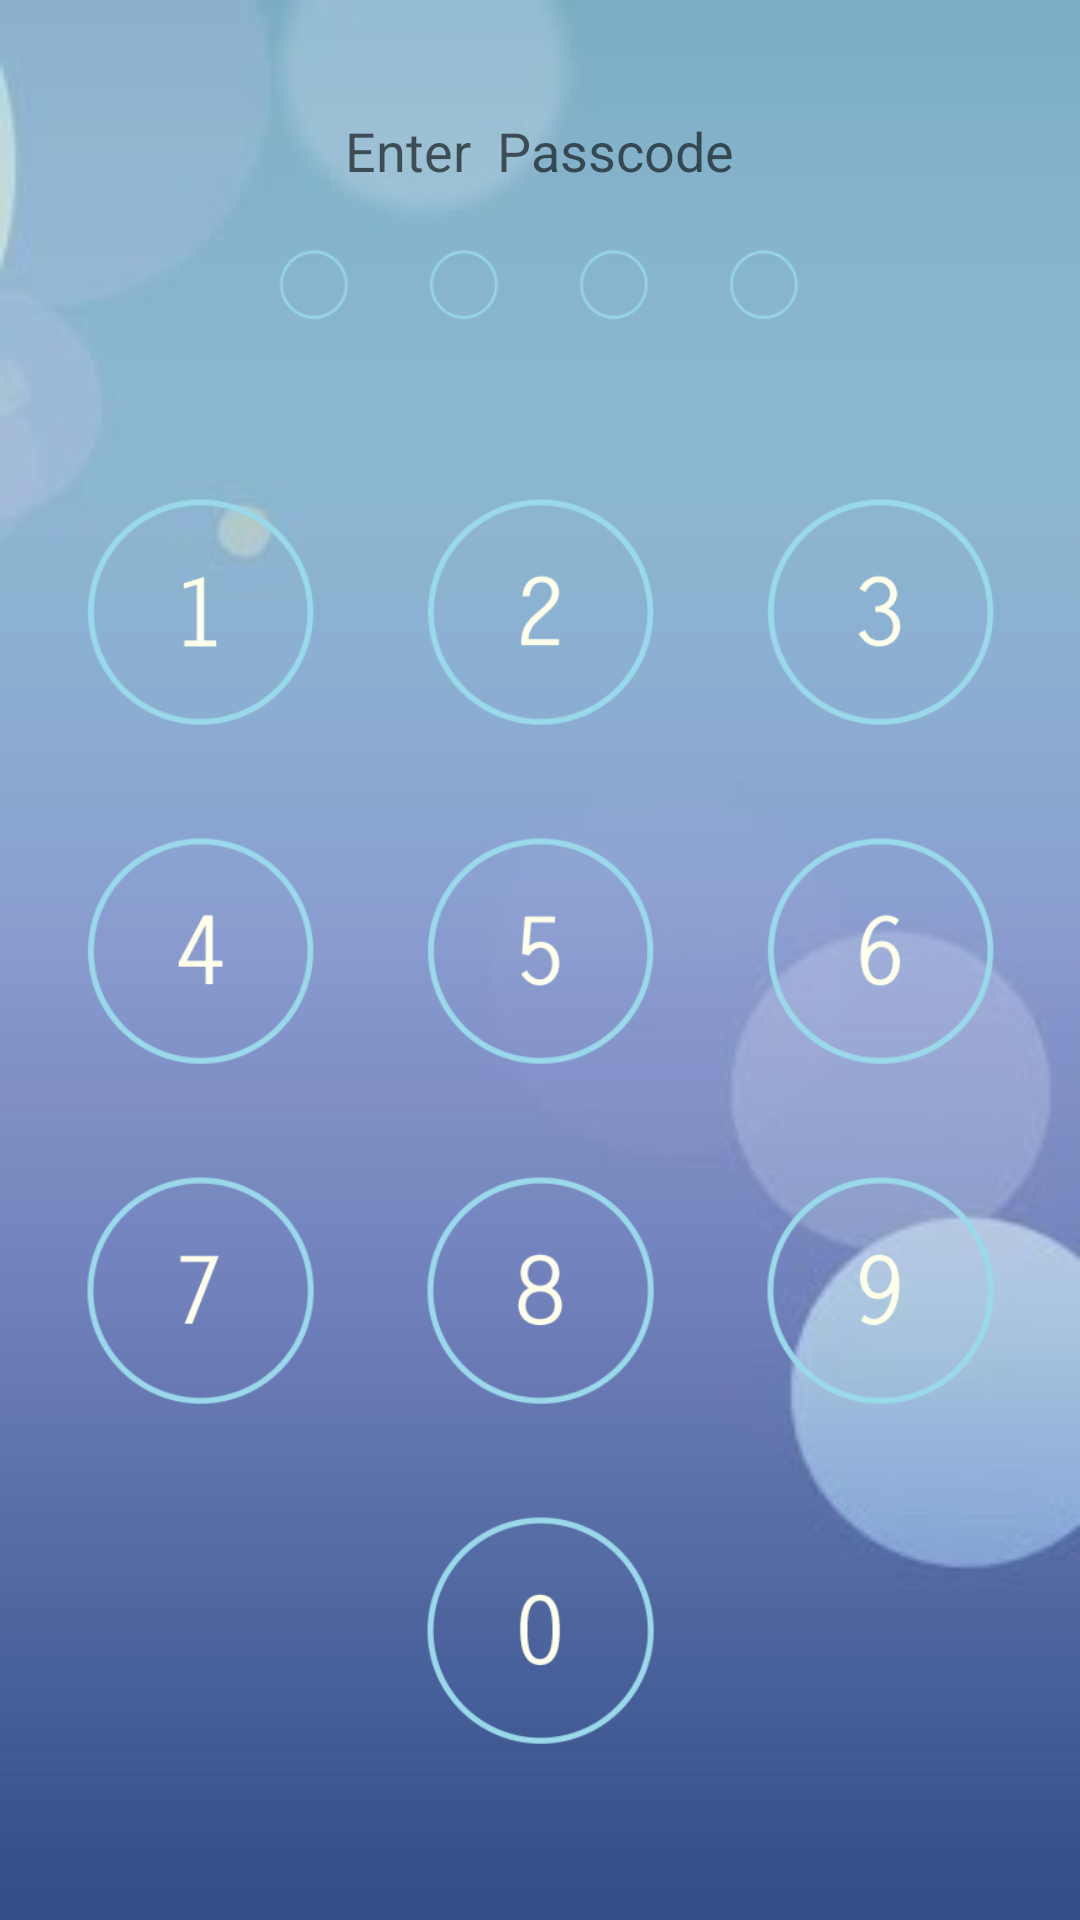

Icons on this 1080px x 1920px Android screen, each with its box as bbox(x1, y1, x2, y2):
circle: bbox(281, 251, 347, 318), bbox(431, 251, 497, 318), bbox(581, 251, 647, 318), bbox(731, 251, 797, 318)
